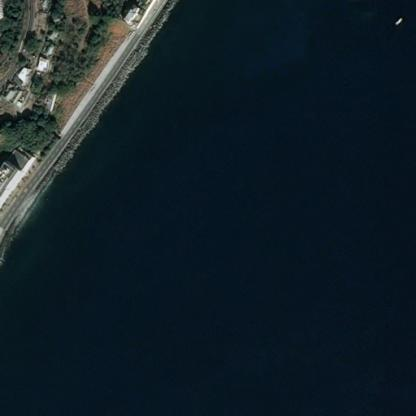ship: (388, 12, 404, 28)
